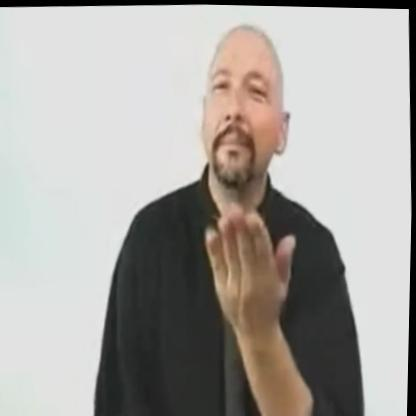ThankYou: (93, 11, 366, 416)
